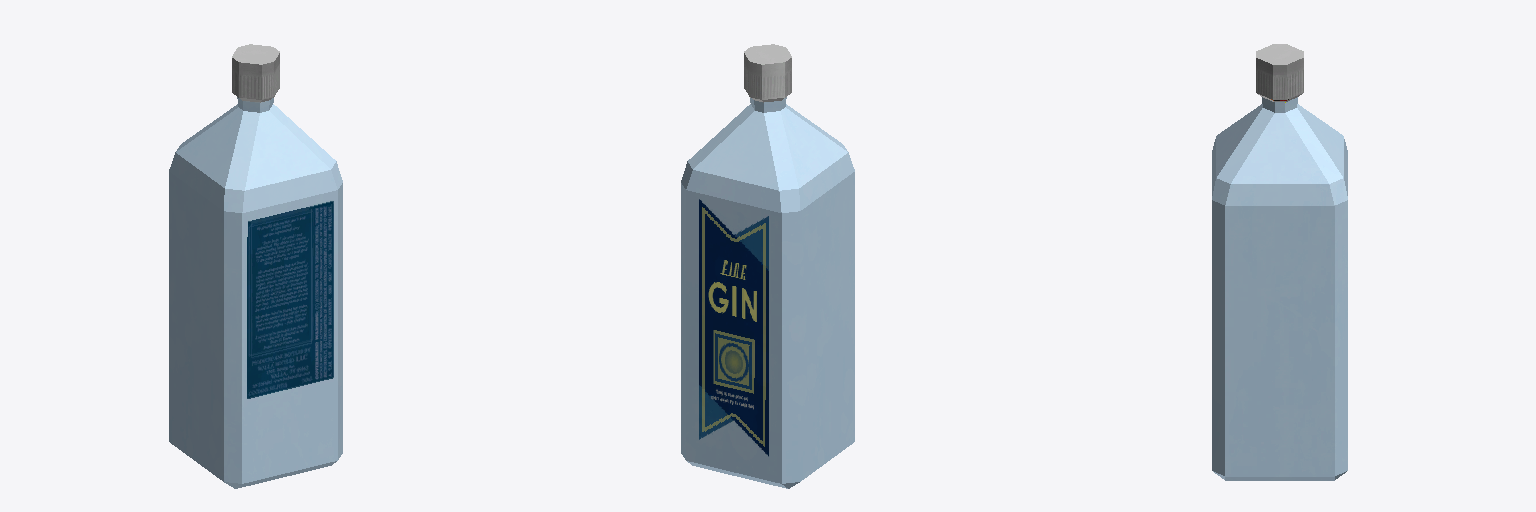
3 views of the same model, side by side, from view 1: azimuth 30°, elevation 25°; view 2: azimuth 150°, elevation 25°; view 3: azimuth 270°, elevation 25° (orthographic).
Parts seen in each view (by area): view 1: bottle_gin; view 2: bottle_gin; view 3: bottle_gin.
Boxes of the visible parts, <box> form: bottle_gin: <box>169,44,342,488</box>; bottle_gin: <box>681,44,854,488</box>; bottle_gin: <box>1212,44,1347,480</box>.
Bounding box in the file's own units: 12.43 × 40.04 × 12.3.
1 materials, 1 textured.